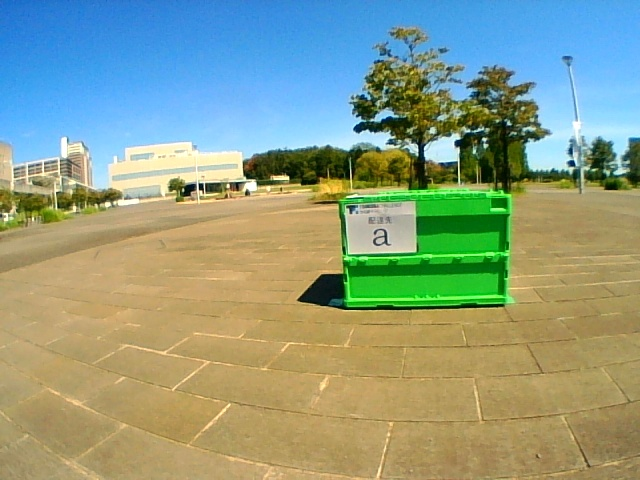green_box: (339, 189, 512, 308)
tag_a: (349, 205, 414, 252)
